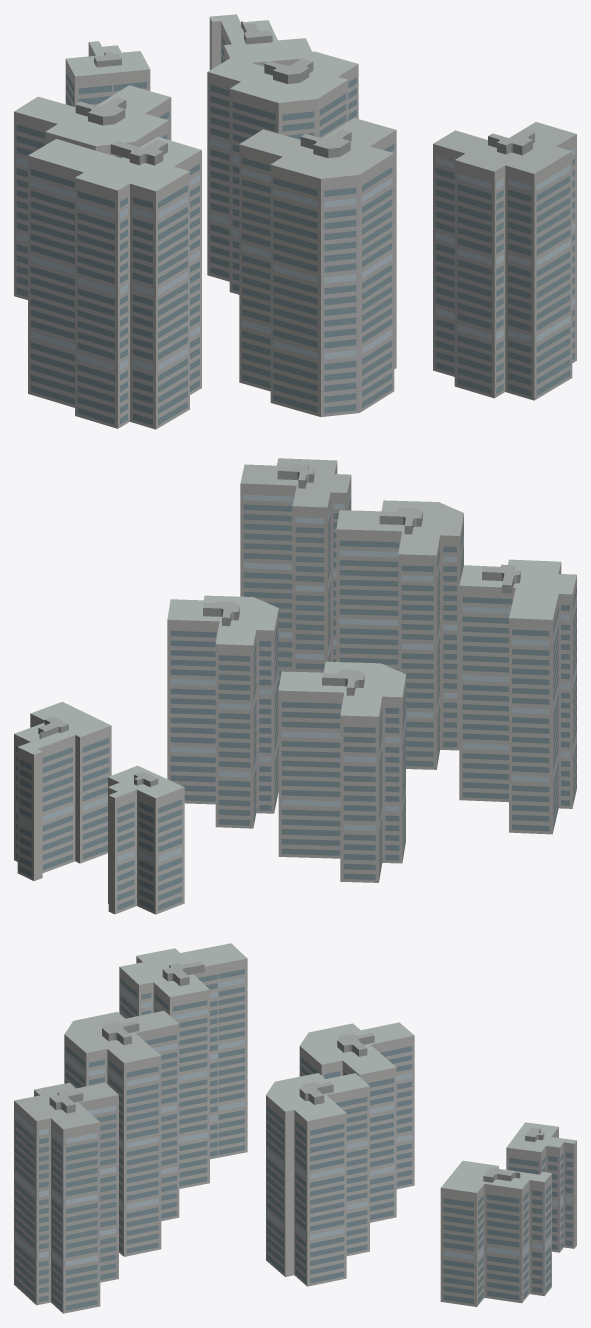
Rendered from apt-a10025533.glb.
The picture shows the model from 3 angles, top to bottom: view 1: azimuth 30°, elevation 25°; view 2: azimuth 150°, elevation 25°; view 3: azimuth 270°, elevation 25°; orthographic projection. The views are drawn at different scales.
Parts seen in each view (by area): view 1: apt-a10025533; view 2: apt-a10025533; view 3: apt-a10025533.
Boxes of the visible parts, x1,y1,x2,y2 form: apt-a10025533: (14,14,576,429); apt-a10025533: (14,458,576,914); apt-a10025533: (14,943,576,1313).
Bounding box in the file's own units: 121 × 64 × 162.
